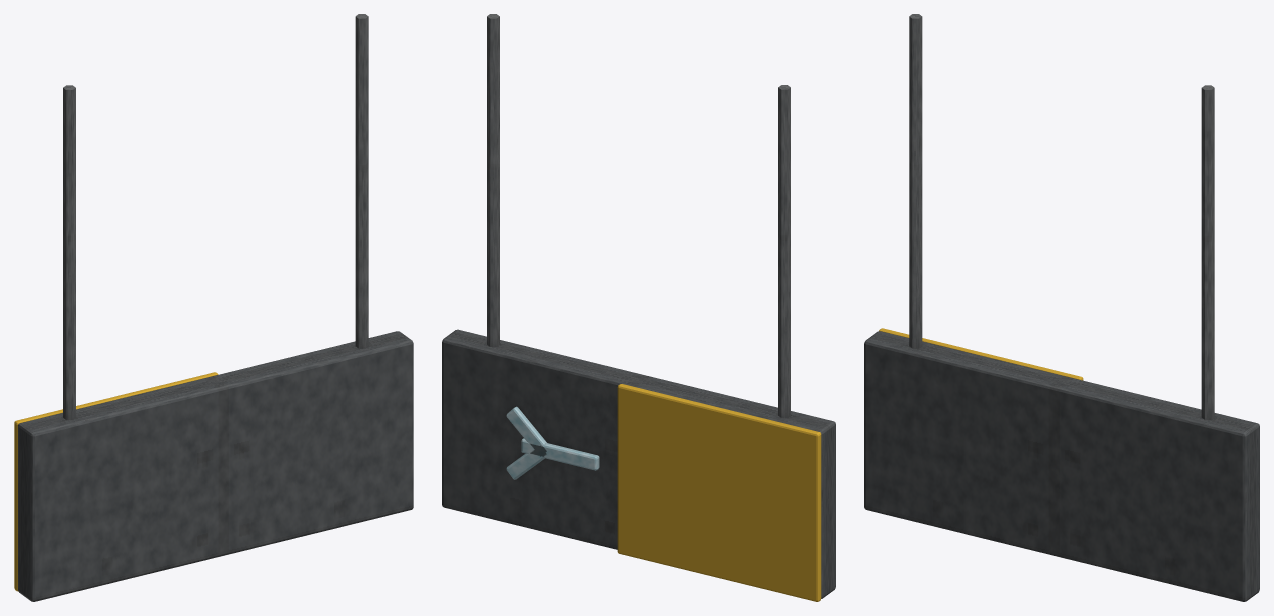
The model's file is base_hanging_sign_logistics.glb.
3 views of the same model, side by side, from view 1: azimuth 30°, elevation 25°; view 2: azimuth 150°, elevation 25°; view 3: azimuth 330°, elevation 25° (orthographic).
Visible parts, largest first — view 1: base_hanging_sign_logistics; view 2: base_hanging_sign_logistics; view 3: base_hanging_sign_logistics.
Part boxes in pixels (<box>): base_hanging_sign_logistics: <box>14,14,413,601</box>; base_hanging_sign_logistics: <box>442,14,835,601</box>; base_hanging_sign_logistics: <box>864,14,1259,601</box>.
Size of the model in its own units: 1.7 by 2.12 by 0.145.
3 materials, 3 textured.
